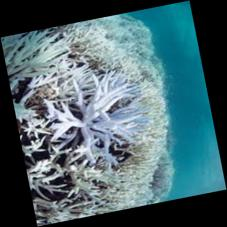bleached_corals: (0, 9, 188, 227)
